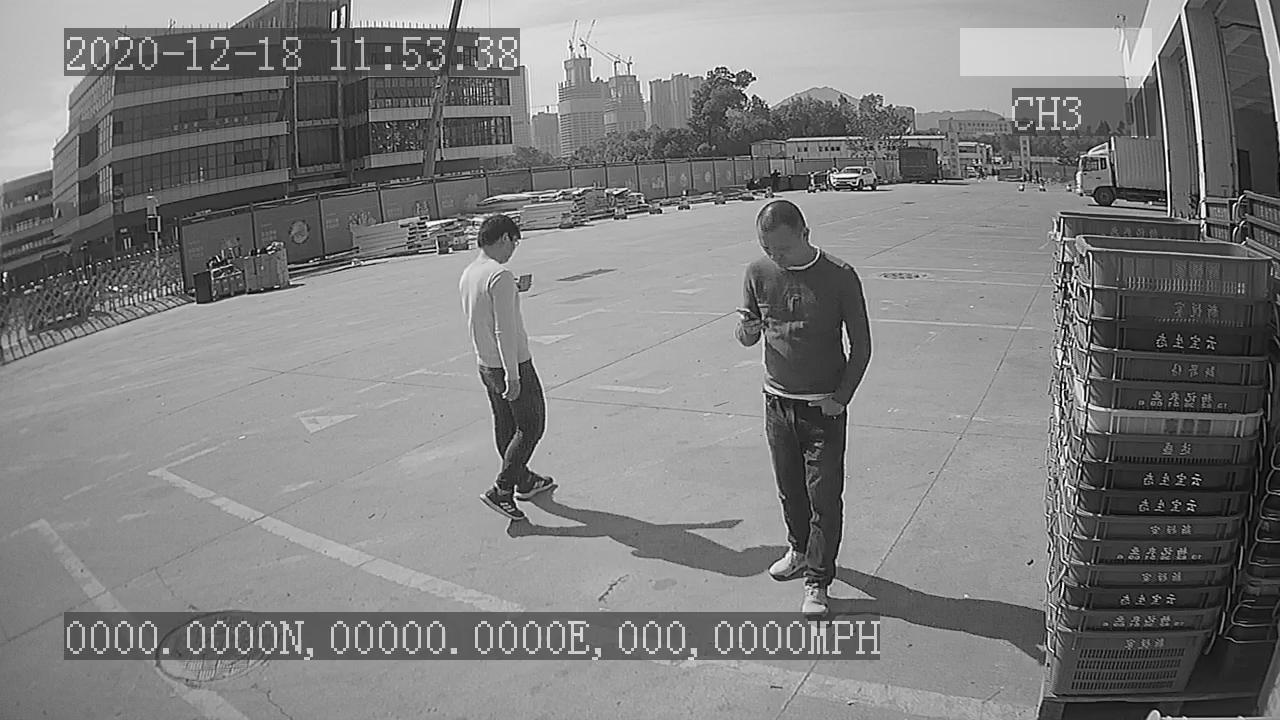person: (445, 210, 567, 535)
